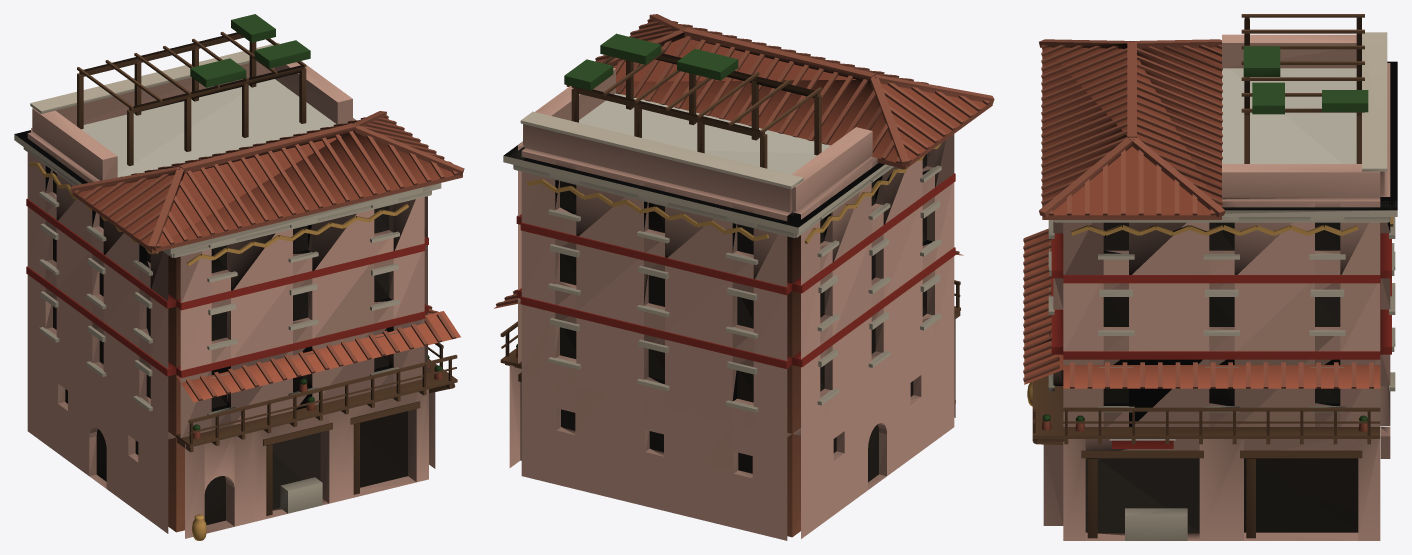
The model's file is rome_insula_b.glb.
The picture shows the model from 3 angles, left to right: view 1: azimuth 30°, elevation 25°; view 2: azimuth 150°, elevation 25°; view 3: azimuth 270°, elevation 25°; orthographic projection. The views are drawn at different scales.
Parts seen in each view (by area): view 1: rome_insula_b; view 2: rome_insula_b; view 3: rome_insula_b.
Boxes of the visible parts, <box> form: rome_insula_b: <box>14,14,464,540</box>; rome_insula_b: <box>494,14,994,540</box>; rome_insula_b: <box>1023,14,1397,540</box>.
Size of the model in its own units: 14.66 by 16.25 by 13.36.
